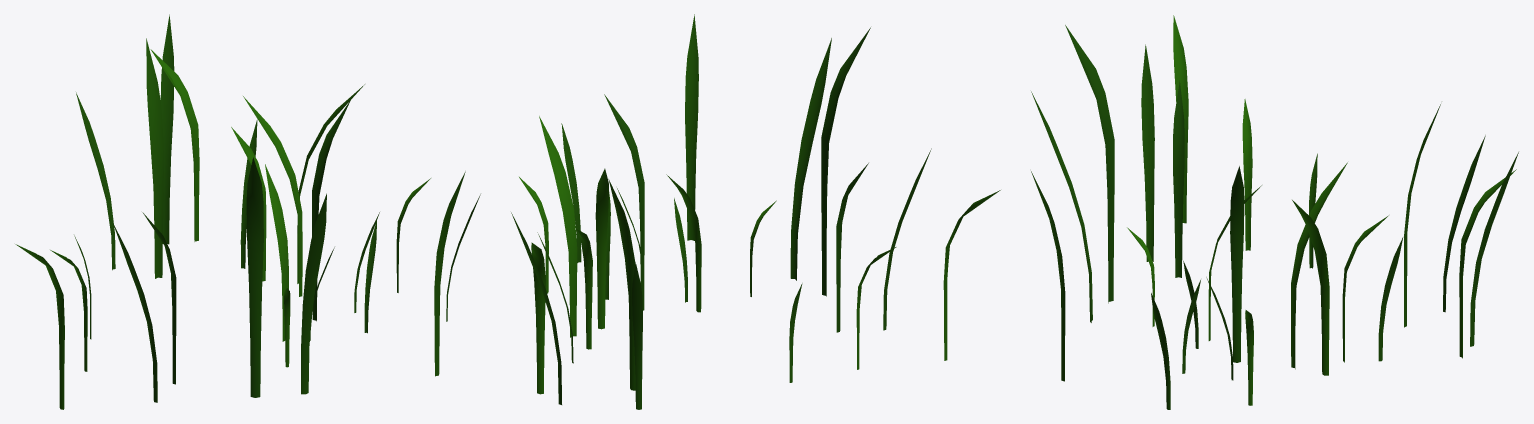
File: Gras2.fbx
The picture shows the model from 3 angles, left to right: view 1: azimuth 30°, elevation 25°; view 2: azimuth 150°, elevation 25°; view 3: azimuth 270°, elevation 25°; orthographic projection. The views are drawn at different scales.
Visible parts, largest first — view 1: Gras2; view 2: Gras2; view 3: Gras2.
Part boxes in pixels (bbox=[...]): Gras2: bbox=[15, 14, 480, 409]; Gras2: bbox=[511, 14, 1000, 409]; Gras2: bbox=[1031, 15, 1518, 409].
Bounding box in the file's own units: 2.7 × 1.49 × 2.48.
